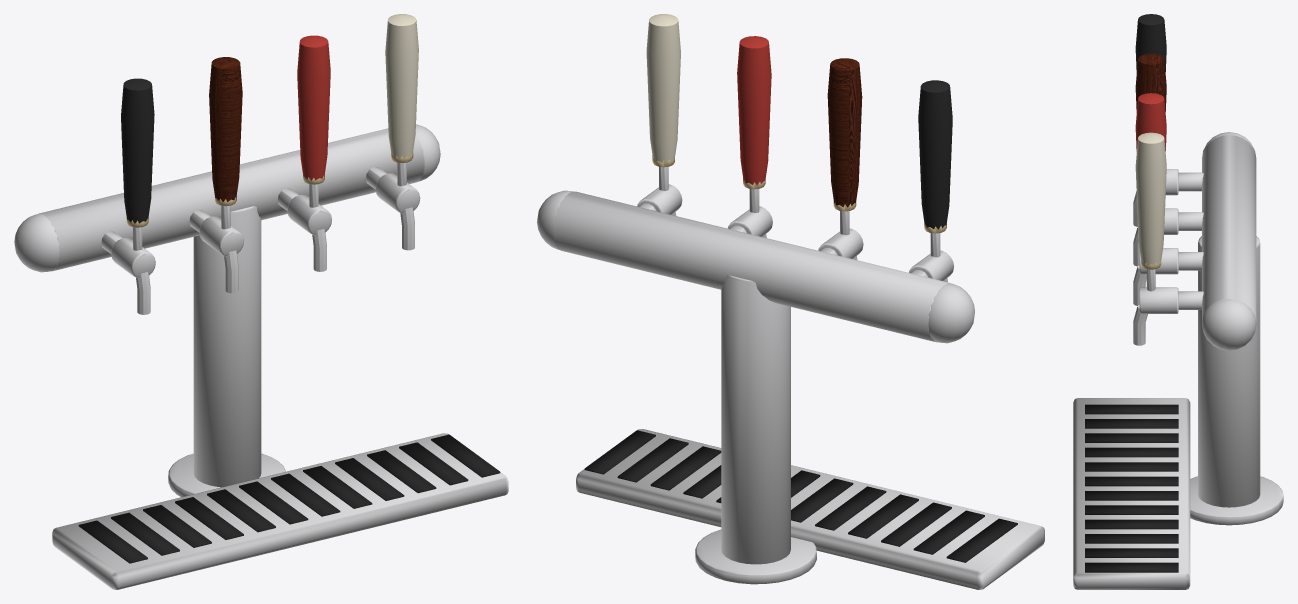
The model's file is beer_taps.glb.
The picture shows the model from 3 angles, left to right: view 1: azimuth 30°, elevation 25°; view 2: azimuth 150°, elevation 25°; view 3: azimuth 270°, elevation 25°; orthographic projection. The views are drawn at different scales.
Parts seen in each view (by area): view 1: Chrome, Black rubber, Handle.002, Handle, Handle.001, Handle.003; view 2: Chrome, Black rubber, Handle, Handle.002, Handle.003, Handle.001; view 3: Chrome, Black rubber, Handle.003, Handle.001, Handle.002, Handle.
Boxes of the visible parts, left/top/right/bottom form: Chrome: left=14, top=124, right=508, bottom=589; Black rubber: left=78, top=434, right=500, bottom=563; Handle.002: left=297, top=35, right=330, bottom=180; Handle: left=121, top=78, right=154, bottom=223; Handle.001: left=209, top=57, right=242, bottom=201; Handle.003: left=385, top=14, right=418, bottom=159; Chrome: left=537, top=166, right=1044, bottom=589; Black rubber: left=584, top=430, right=1017, bottom=562; Handle: left=918, top=80, right=952, bottom=229; Handle.002: left=737, top=36, right=771, bottom=185; Handle.003: left=646, top=14, right=680, bottom=163; Handle.001: left=827, top=58, right=862, bottom=207; Chrome: left=1073, top=132, right=1283, bottom=589; Black rubber: left=1085, top=404, right=1178, bottom=572; Handle.003: left=1135, top=132, right=1166, bottom=265; Handle.001: left=1135, top=53, right=1166, bottom=111; Handle.002: left=1135, top=93, right=1166, bottom=151; Handle: left=1135, top=14, right=1166, bottom=72.
Size of the model in its own units: 0.57 by 0.605 by 0.27.
7 materials, 1 textured.
